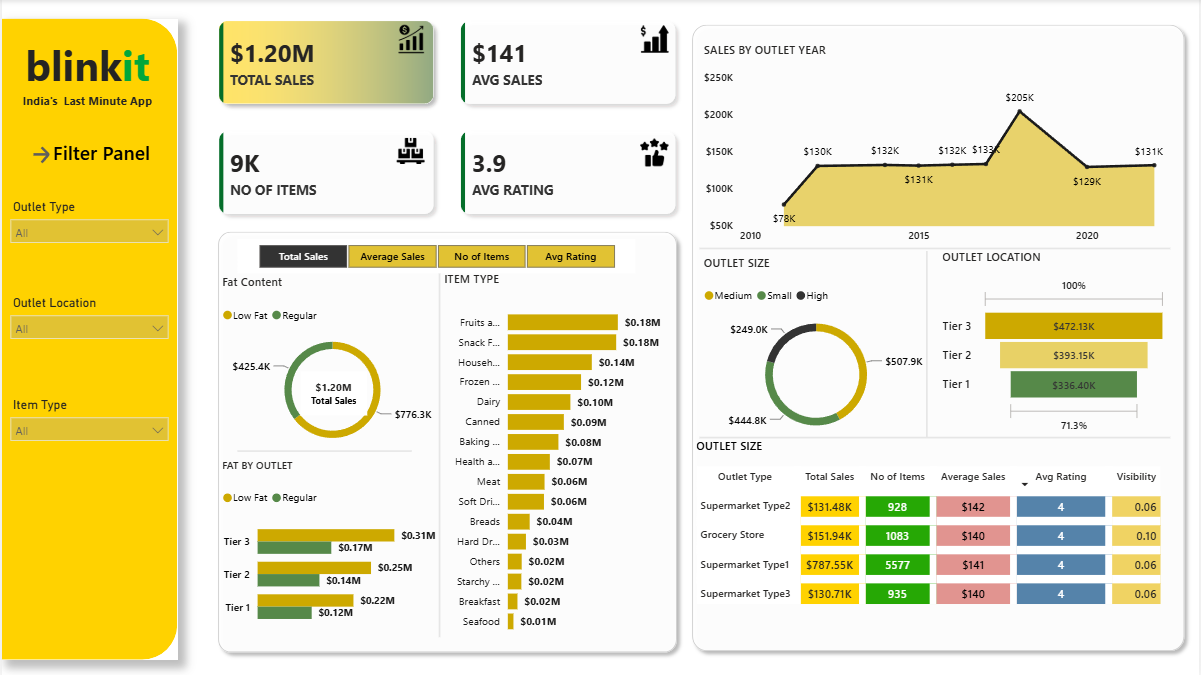

The page's visual inventory and layout, read from the dashboard file:
{"tool":"powerbi","page":{"name":"Page 1","canvas":[1400,800],"ordinal":0},"visuals":[{"type":"cardVisual","fields":{"Data":["BlinkIT Grocery Data.Total Sales","BlinkIT Grocery Data.Average Sales","BlinkIT Grocery Data.No of Items","BlinkIT Grocery Data.Avg Rating"]},"box":[224.1,0,592.6,285.2],"z":0,"group":"g2"},{"type":"shape","box":[0,25.7,205,750],"z":0},{"type":"image","box":[446.2,34.2,62.7,34.2],"z":1000,"group":"g2"},{"type":"textbox","box":[16.7,42.6,168.5,81.5],"z":1000},{"type":"textbox","box":[16.7,107.4,168.5,31.5],"z":2000},{"type":"group","id":"g1","title":"Group 2","box":[224.1,0,592.4,284.8],"z":3000},{"type":"group","id":"g2","title":"Group 1","box":[224.1,0,592.6,285.2],"z":3002,"group":"g1"},{"type":"image","box":[444.7,165.2,64.1,32.8],"z":3252,"group":"g1"},{"type":"image","box":[741,34.2,42.7,34.2],"z":3502,"group":"g1"},{"type":"image","box":[739.5,165.8,45.6,32.9],"z":3504,"group":"g2"},{"type":"shape","box":[243,265.8,554.4,510.1],"z":4000},{"type":"donutChart","title":"Fat Content","fields":{"Category":["BlinkIT Grocery Data.Item Fat Content"],"Y":["BlinkIT Grocery Data.Total Sales"]},"box":[253.2,325.3,267.1,215.2],"z":5000},{"type":"slicer","fields":{"Values":["metric.metric"]},"box":[275.9,284.8,465,40],"z":6000},{"type":"cardVisual","fields":{"Data":["BlinkIT Grocery Data.Total Sales"]},"box":[343,432.9,88.6,62],"z":7000},{"type":"clusteredBarChart","title":"FAT BY OUTLET","fields":{"Category":["BlinkIT Grocery Data.Outlet Location Type"],"Series":["BlinkIT Grocery Data.Item Fat Content"],"Y":["BlinkIT Grocery Data.Total Sales"]},"box":[253.2,540.5,259.5,210.1],"z":8000},{"type":"shape","box":[275.9,516.5,203.8,32.9],"z":9000},{"type":"shape","box":[503.8,325.3,16.5,425.3],"z":10000},{"type":"barChart","title":"ITEM TYPE","fields":{"Category":["BlinkIT Grocery Data.Item Type"],"Y":["BlinkIT Grocery Data.Total Sales"]},"box":[512.7,320.3,263.3,434.2],"z":11000},{"type":"shape","box":[797.5,25.3,593.7,750.6],"z":12000},{"type":"lineChart","title":"SALES BY OUTLET YEAR ","fields":{"Category":["BlinkIT Grocery Data.Outlet Establishment Year"],"Y":["BlinkIT Grocery Data.Total Sales"]},"box":[816.5,51.9,550.6,245.6],"z":13000},{"type":"shape","box":[816.5,287.3,550.6,15.2],"z":14000},{"type":"donutChart","title":"OUTLET SIZE","fields":{"Category":["BlinkIT Grocery Data.Outlet Size"],"Y":["BlinkIT Grocery Data.Total Sales"]},"box":[816.5,302.5,272,225],"z":15000},{"type":"shape","box":[816.5,500,550.6,32.9],"z":16000},{"type":"funnel","title":"OUTLET LOCATION","fields":{"Category":["BlinkIT Grocery Data.Outlet Location Type"],"Y":["BlinkIT Grocery Data.Total Sales"]},"box":[1094.9,294.9,272.2,221.5],"z":17000},{"type":"shape","box":[1075.9,297.5,12.7,219],"z":18000},{"type":"pivotTable","title":"OUTLET SIZE","fields":{"Rows":["BlinkIT Grocery Data.Outlet Type"],"Values":["BlinkIT Grocery Data.Total Sales","BlinkIT Grocery Data.No of Items","BlinkIT Grocery Data.Average Sales","BlinkIT Grocery Data.Avg Rating","Avg(BlinkIT Grocery Data.Item Visibility)"]},"box":[806.3,516.5,570.9,213.9],"z":19000},{"type":"slicer","fields":{"Values":["BlinkIT Grocery Data.Outlet Type"]},"box":[0,233.3,204.7,67.7],"z":20000},{"type":"slicer","fields":{"Values":["BlinkIT Grocery Data.Outlet Location Type"]},"box":[0,346.4,204.7,67.7],"z":21000},{"type":"slicer","fields":{"Values":["BlinkIT Grocery Data.Item Type"]},"box":[0,464.8,204.7,67.7],"z":22000},{"type":"shape","box":[60.1,160.8,144.9,42.4],"z":23000},{"type":"actionButton","box":[31.8,167.9,28.3,35.3],"z":24000}]}

Visuals, with their boxes in screenshot pixels (x1, y1, x2, y2), scaled from the page's 1400x800 canvas onto the 1201x675 screenshot:
cardVisual - BlinkIT Grocery Data.Total Sales x BlinkIT Grocery Data.Average Sales: (192,0,701,241)
shape: (0,22,176,654)
image: (383,29,437,58)
textbox: (14,36,159,105)
textbox: (14,91,159,117)
"Group 2" group: (192,0,700,240)
"Group 1" group: (192,0,701,241)
image: (381,139,436,167)
image: (636,29,672,58)
image: (634,140,674,168)
shape: (208,224,684,655)
"Fat Content" donutChart: (217,274,446,456)
slicer - metric.metric: (237,240,636,274)
cardVisual - BlinkIT Grocery Data.Total Sales: (294,365,370,418)
"FAT BY OUTLET" clusteredBarChart: (217,456,440,633)
shape: (237,436,412,464)
shape: (432,274,446,633)
"ITEM TYPE" barChart: (440,270,666,637)
shape: (684,21,1193,655)
"SALES BY OUTLET YEAR " lineChart: (700,44,1173,251)
shape: (700,242,1173,255)
"OUTLET SIZE" donutChart: (700,255,934,445)
shape: (700,422,1173,450)
"OUTLET LOCATION" funnel: (939,249,1173,436)
shape: (923,251,934,436)
"OUTLET SIZE" pivotTable: (692,436,1181,616)
slicer - BlinkIT Grocery Data.Outlet Type: (0,197,176,254)
slicer - BlinkIT Grocery Data.Outlet Location Type: (0,292,176,349)
slicer - BlinkIT Grocery Data.Item Type: (0,392,176,449)
shape: (52,136,176,171)
actionButton: (27,142,52,171)
